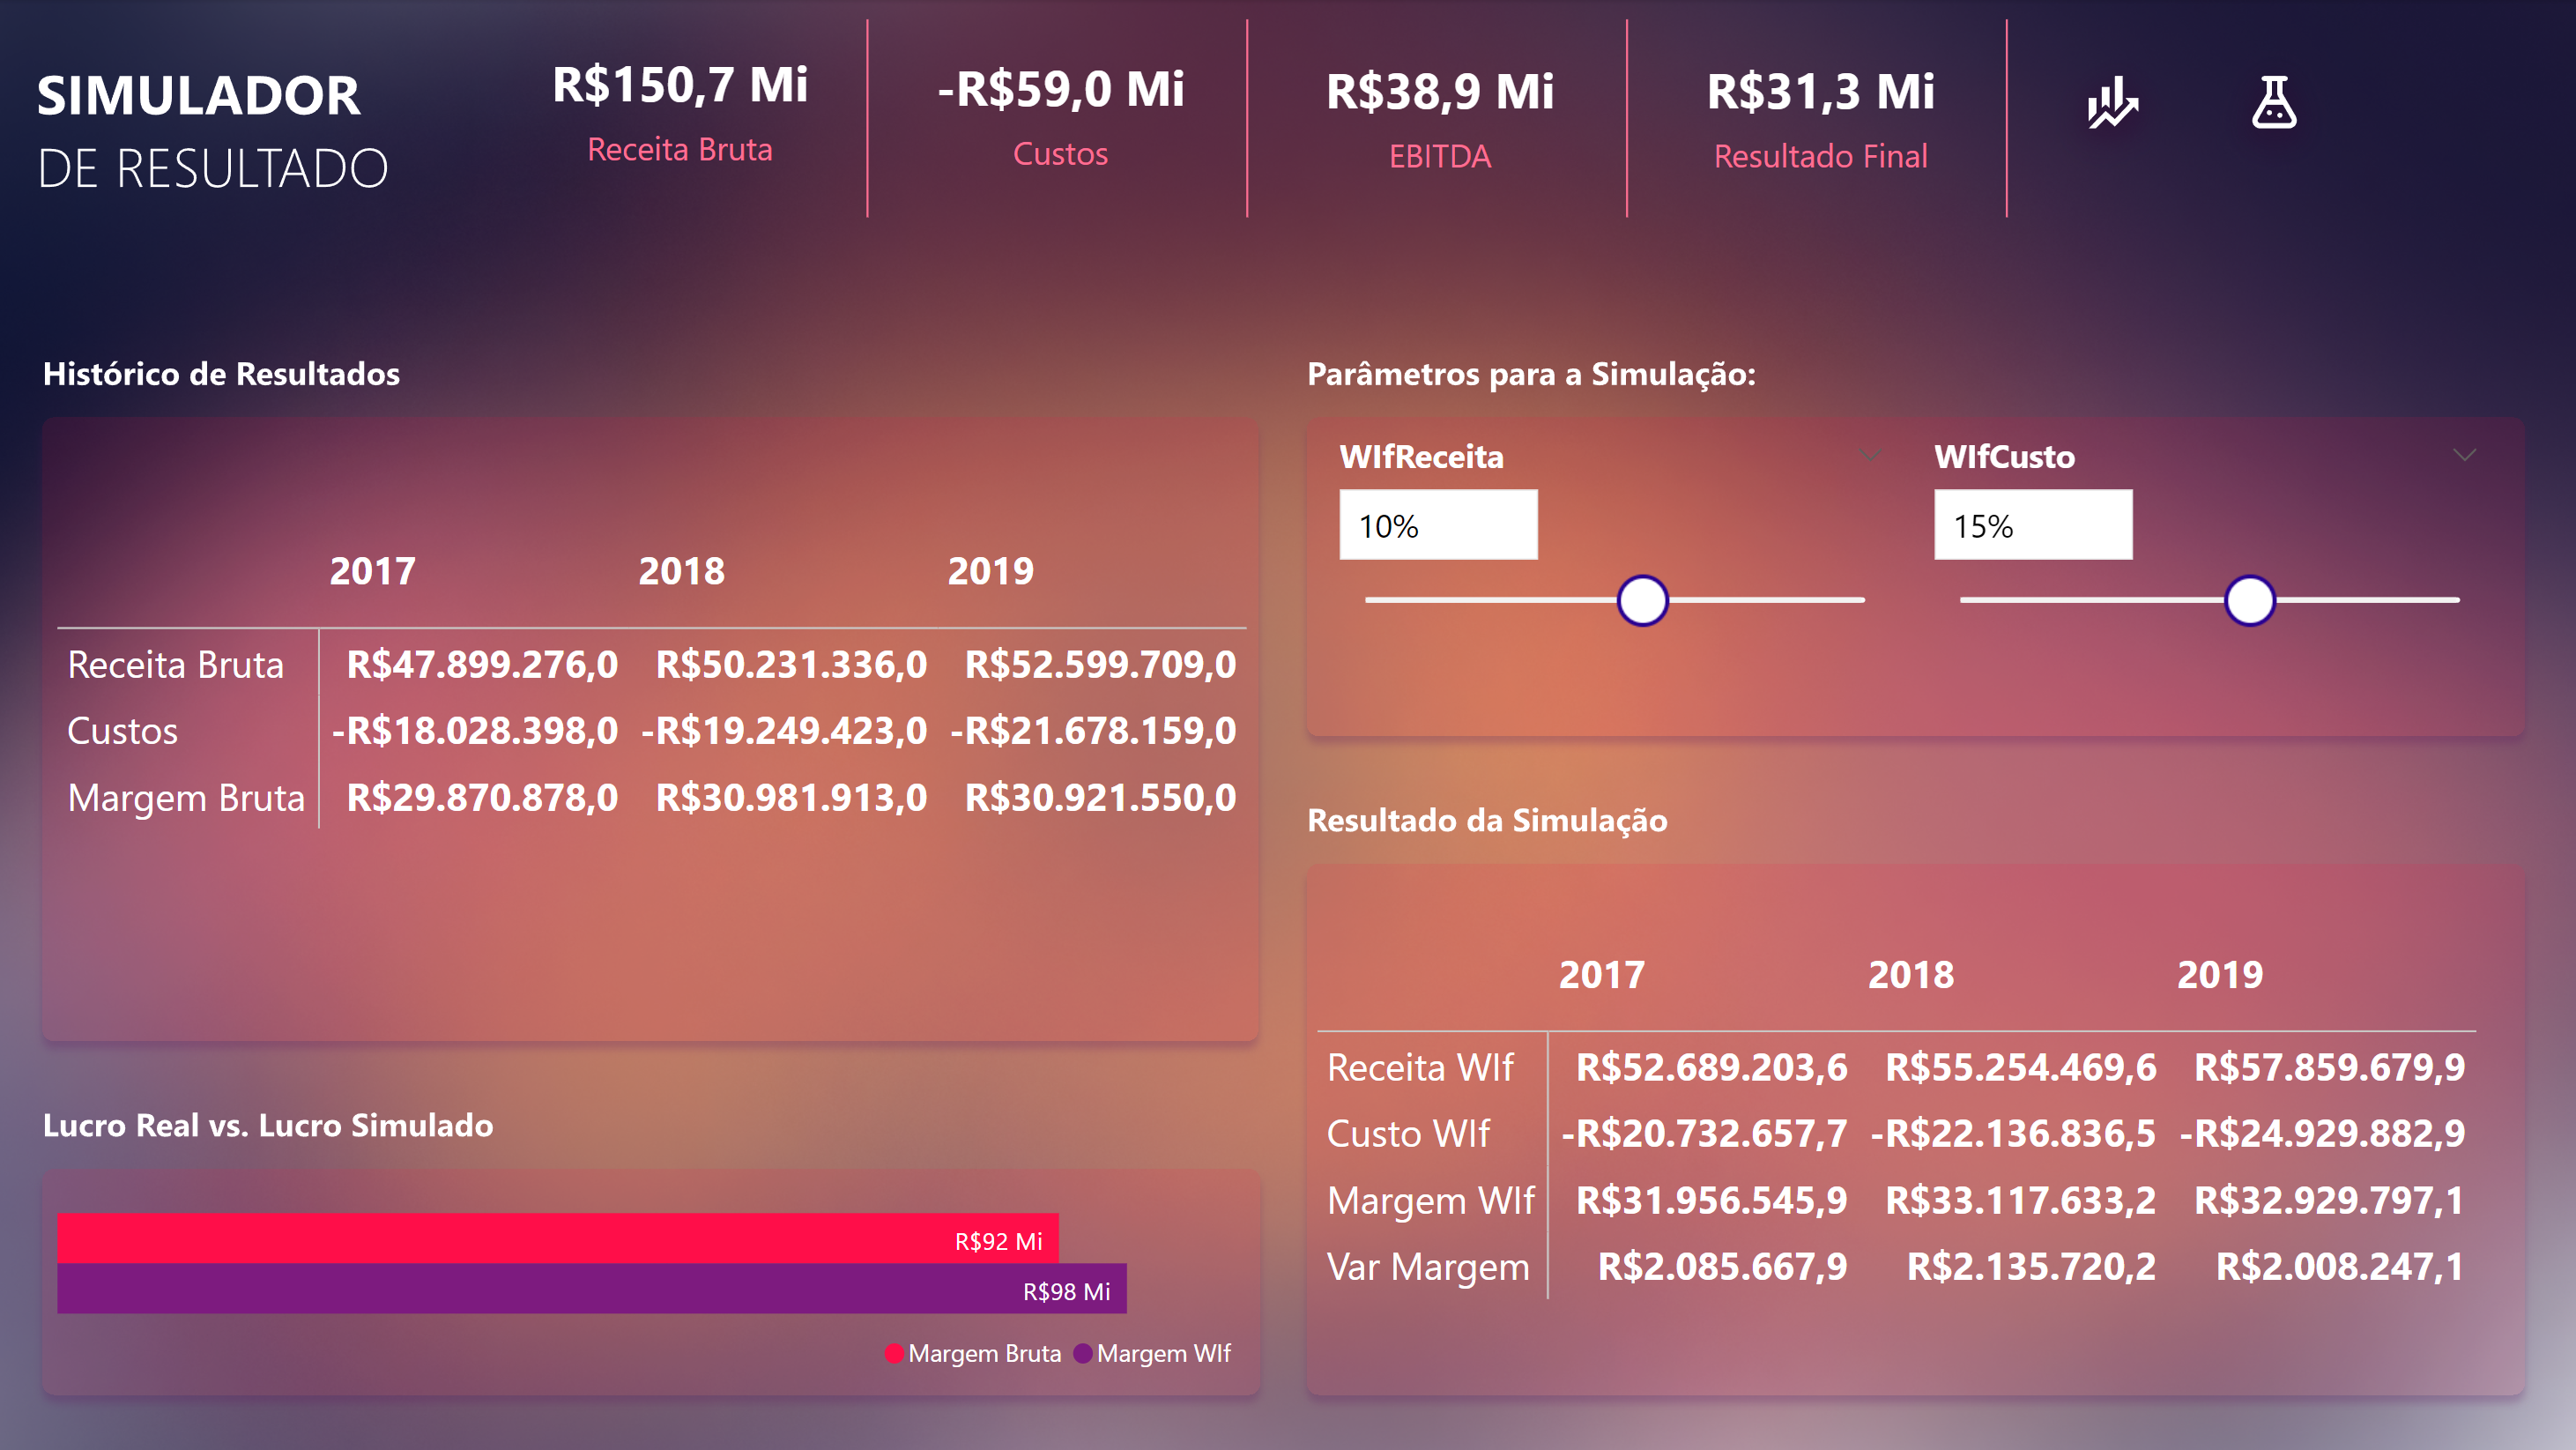

This screenshot's page, from the dashboard's own definition file:
{"tool":"powerbi","page":{"name":"Simulador","canvas":[1280,720],"ordinal":1},"visuals":[{"type":"actionButton","box":[1014.8,24.6,63.8,54],"z":0},{"type":"slicer","fields":{"Values":["WIfReceita.WIfReceita"]},"box":[653.1,209.5,294.6,150.6],"z":1000},{"type":"slicer","fields":{"Values":["WIfCusto.WIfCusto"]},"box":[947.7,209.5,294.6,150.6],"z":2000},{"type":"pivotTable","fields":{"Columns":["dCalendario.Ano"],"Values":["Medidas.Receita Bruta","Medidas.Custos","Medidas.Margem Bruta"]},"box":[26.2,260.3,599.1,199.7],"z":3000},{"type":"pivotTable","fields":{"Columns":["dCalendario.Ano"],"Values":["Medidas.Receita WIf","Medidas.Custo WIf","Medidas.Margem WIf","Medidas.Var Margem"]},"box":[649.8,459.9,599.1,199.7],"z":4000},{"type":"card","fields":{"Values":["Medidas.Receita Bruta"]},"box":[245.5,0,188.2,106.4],"z":5000},{"type":"card","fields":{"Values":["Medidas.Custos"]},"box":[433.8,1.6,188.2,106.4],"z":6000},{"type":"card","fields":{"Values":["Medidas.EBITDA"]},"box":[622,3.3,188.2,106.4],"z":7000},{"type":"card","fields":{"Values":["Medidas.Resultado Final"]},"box":[810.2,3.3,188.2,106.4],"z":8000},{"type":"clusteredBarChart","fields":{"Y":["Medidas.Margem Bruta","Medidas.Margem WIf"]},"box":[26.2,582.7,595.8,106.4],"z":9000}]}

Visuals, with their boxes in screenshot pixels (x1, y1, x2, y2), scaled from the page's 1280x720 canvas onto the 2576x1450 screenshot:
actionButton: 2042, 49, 2171, 159
slicer - WIfReceita.WIfReceita: 1314, 422, 1907, 725
slicer - WIfCusto.WIfCusto: 1907, 422, 2500, 725
pivotTable - dCalendario.Ano x Medidas.Receita Bruta: 53, 524, 1258, 926
pivotTable - dCalendario.Ano x Medidas.Receita WIf: 1308, 926, 2513, 1328
card - Medidas.Receita Bruta: 494, 0, 872, 214
card - Medidas.Custos: 873, 4, 1251, 218
card - Medidas.EBITDA: 1251, 7, 1630, 221
card - Medidas.Resultado Final: 1630, 7, 2009, 221
clusteredBarChart - Medidas.Margem Bruta x Medidas.Margem WIf: 53, 1173, 1251, 1387
